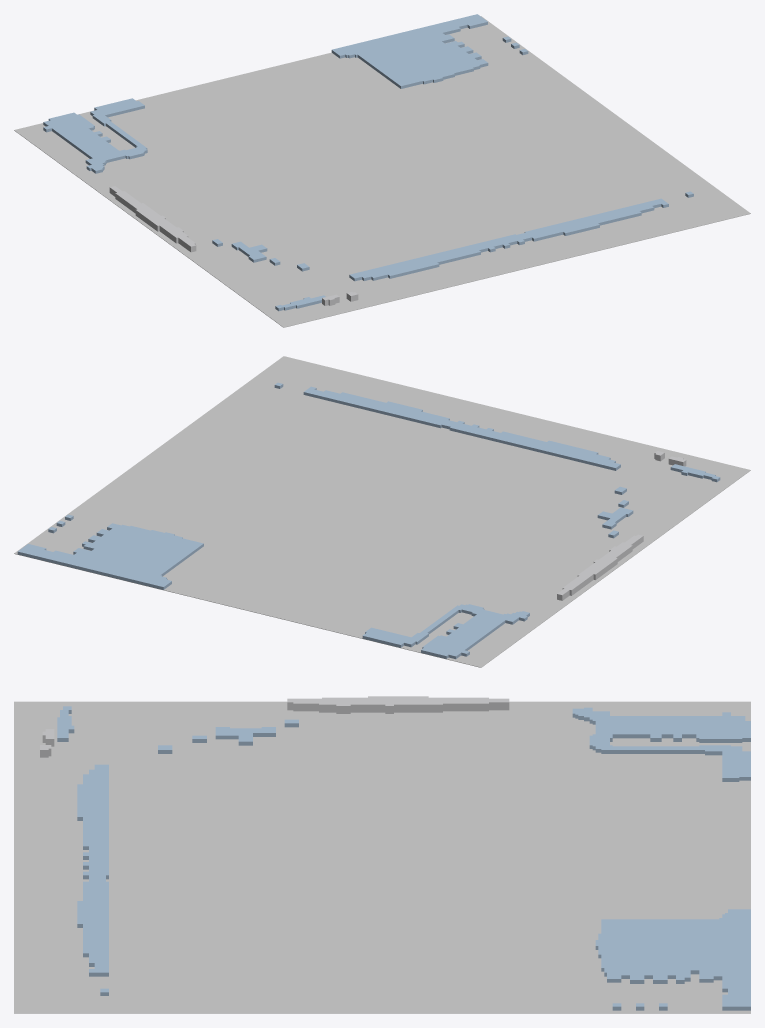
The model's file is floorplan_3d_apartment.glb.
3 renders of one model, top to bottom at view 1: azimuth 30°, elevation 25°; view 2: azimuth 150°, elevation 25°; view 3: azimuth 270°, elevation 25°, orthographic. The views are drawn at different scales.
Visible parts, largest first — view 1: world; view 2: world; view 3: world.
Part boxes in pixels (x1,y1,x2,y2): world: [14, 14, 750, 327]; world: [14, 356, 750, 667]; world: [14, 696, 750, 1013].
Size of the model in its own units: 256 by 3.2 by 256.
